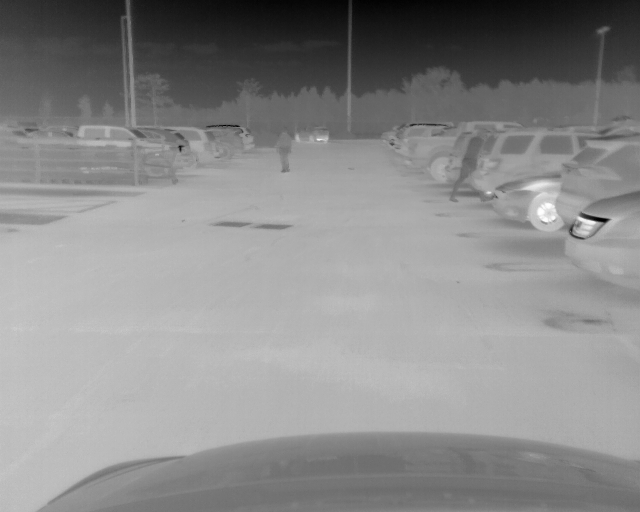car: (472, 127, 600, 197), (561, 187, 640, 296), (552, 131, 640, 224), (70, 124, 190, 178), (491, 171, 568, 235), (396, 120, 475, 178), (166, 125, 218, 175), (206, 127, 244, 166), (295, 123, 331, 146), (240, 122, 256, 155)
people: (449, 132, 483, 202), (275, 130, 293, 172)
